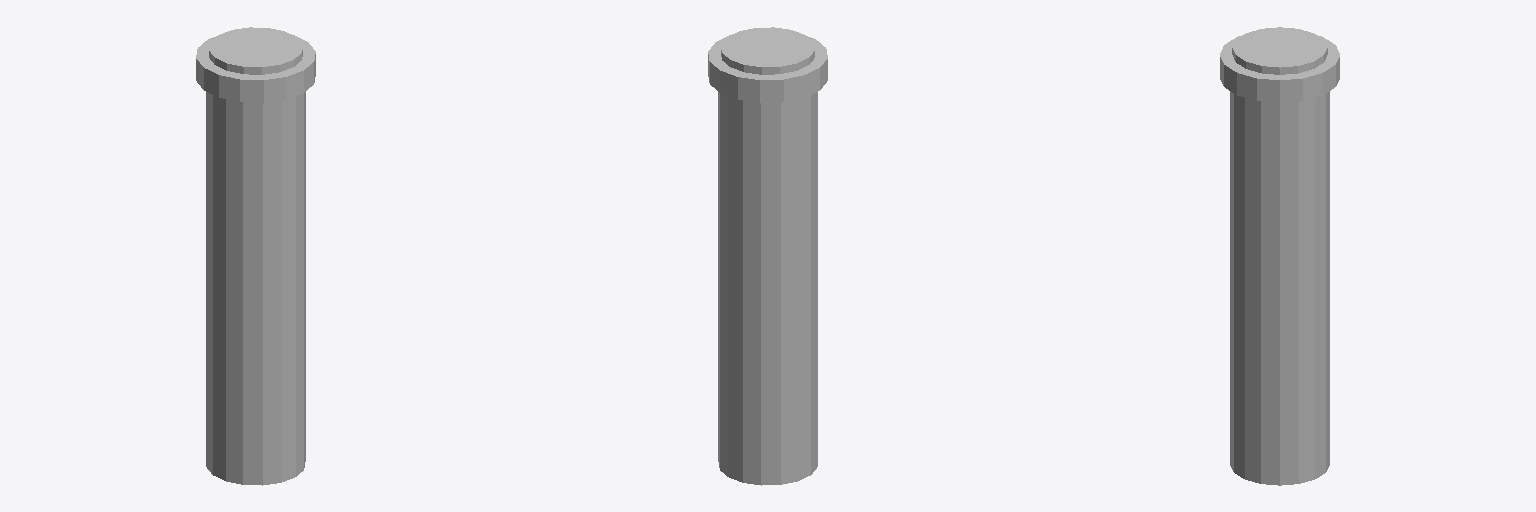
Rendered from lms_post_tube_top.obj.
3 renders of one model, left to right at view 1: azimuth 30°, elevation 25°; view 2: azimuth 150°, elevation 25°; view 3: azimuth 270°, elevation 25°, orthographic.
Parts seen in each view (by area): view 1: Tubular_Steel_Top_Cylinder.003; view 2: Tubular_Steel_Top_Cylinder.003; view 3: Tubular_Steel_Top_Cylinder.003.
Part boxes in pixels (x1,y1,x2,y2): Tubular_Steel_Top_Cylinder.003: (196, 27, 315, 485); Tubular_Steel_Top_Cylinder.003: (708, 27, 827, 485); Tubular_Steel_Top_Cylinder.003: (1220, 27, 1339, 485).
Size of the model in its own units: 0.242 by 0.9215 by 0.242.